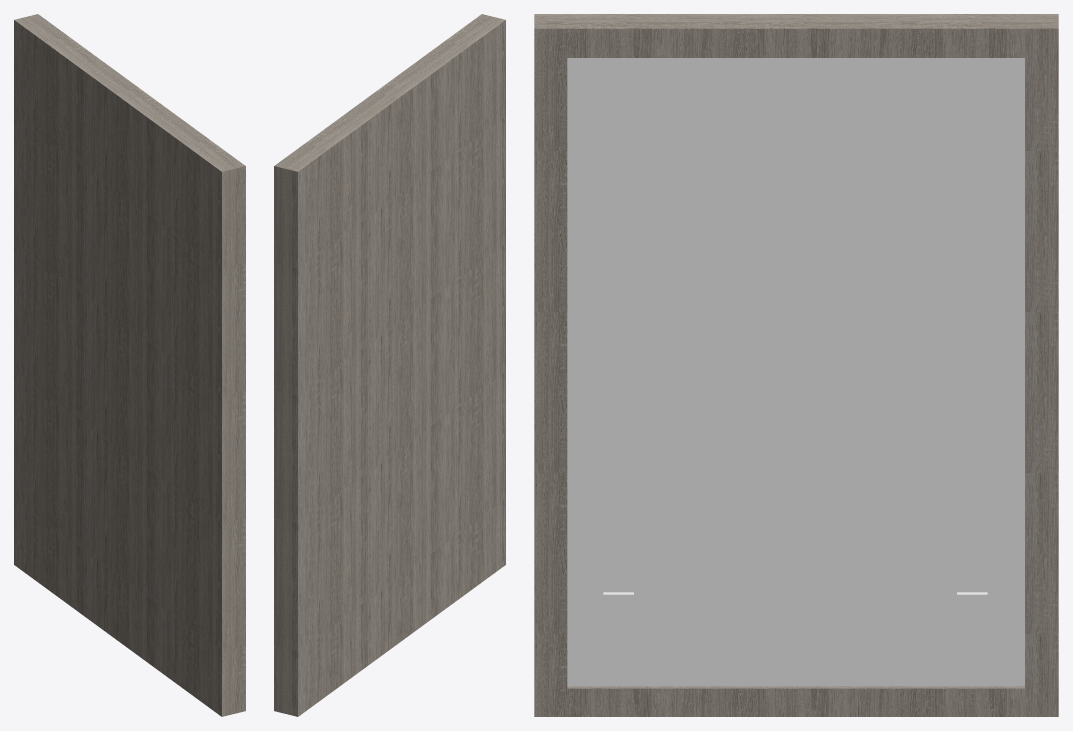
Rendered from Spiegel.glb.
The picture shows the model from 3 angles, left to right: view 1: azimuth 30°, elevation 25°; view 2: azimuth 150°, elevation 25°; view 3: azimuth 270°, elevation 25°; orthographic projection. The views are drawn at different scales.
Visible parts, largest first — view 1: Mesh1 Component_76 G_19_Spiegel_mit_Holz_V2_dwg1 Model; view 2: Mesh1 Component_76 G_19_Spiegel_mit_Holz_V2_dwg1 Model; view 3: Mesh2 Component_77 G_19_Spiegel_mit_Holz_V2_dwg1 Model, Mesh1 Component_76 G_19_Spiegel_mit_Holz_V2_dwg1 Model, Mesh5 Component_80 G_19_Spiegel_mit_Holz_V2_dwg1 Model.
Part boxes in pixels (x1,y1,x2,y2): Mesh1 Component_76 G_19_Spiegel_mit_Holz_V2_dwg1 Model: (14, 14, 245, 716); Mesh1 Component_76 G_19_Spiegel_mit_Holz_V2_dwg1 Model: (274, 14, 505, 716); Mesh2 Component_77 G_19_Spiegel_mit_Holz_V2_dwg1 Model: (567, 58, 1024, 686); Mesh1 Component_76 G_19_Spiegel_mit_Holz_V2_dwg1 Model: (534, 14, 1058, 716); Mesh5 Component_80 G_19_Spiegel_mit_Holz_V2_dwg1 Model: (603, 143, 987, 592).
Size of what is drawn, in the model's own units: 5 by 109 by 75.
3 materials, 1 textured.
